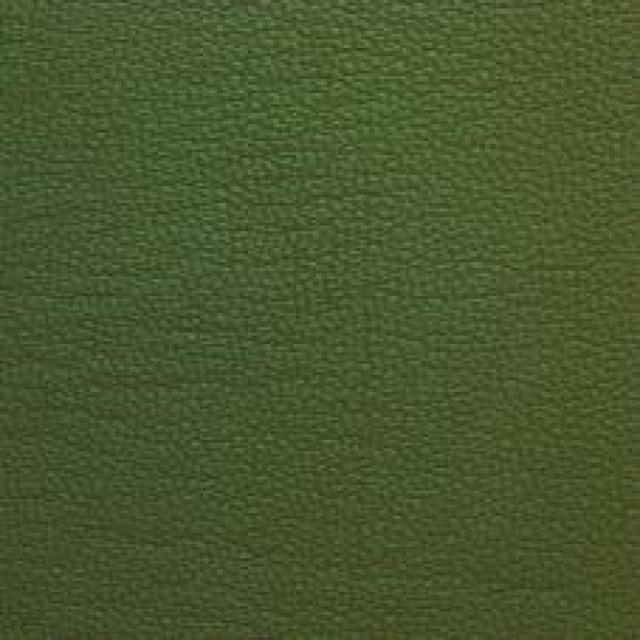Growth Marks: (58, 490, 303, 614), (318, 515, 573, 624)
